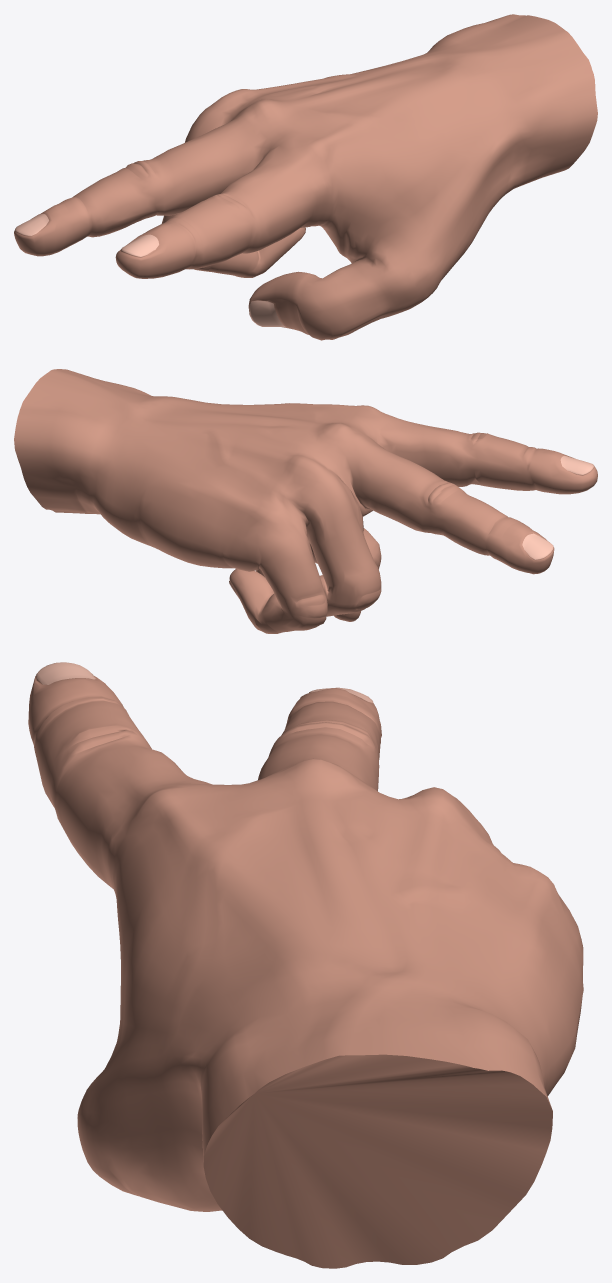
Rendered from hand_31.obj.
The picture shows the model from 3 angles, top to bottom: view 1: azimuth 30°, elevation 25°; view 2: azimuth 150°, elevation 25°; view 3: azimuth 270°, elevation 25°; orthographic projection. The views are drawn at different scales.
Visible parts, largest first — view 1: Figure_2; view 2: Figure_2; view 3: Figure_2.
Boxes of the visible parts, <box> form: Figure_2: <box>14,14,597,340</box>; Figure_2: <box>14,369,597,633</box>; Figure_2: <box>28,662,583,1268</box>.
Size of the model in its own units: 0.8962 by 0.3399 by 0.4294.
